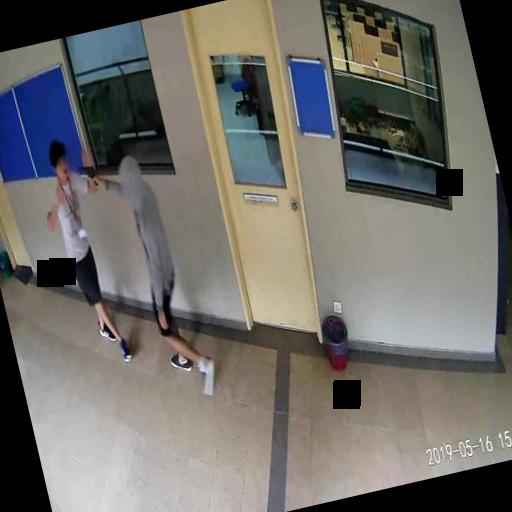Handgun: (76, 162, 98, 186)
